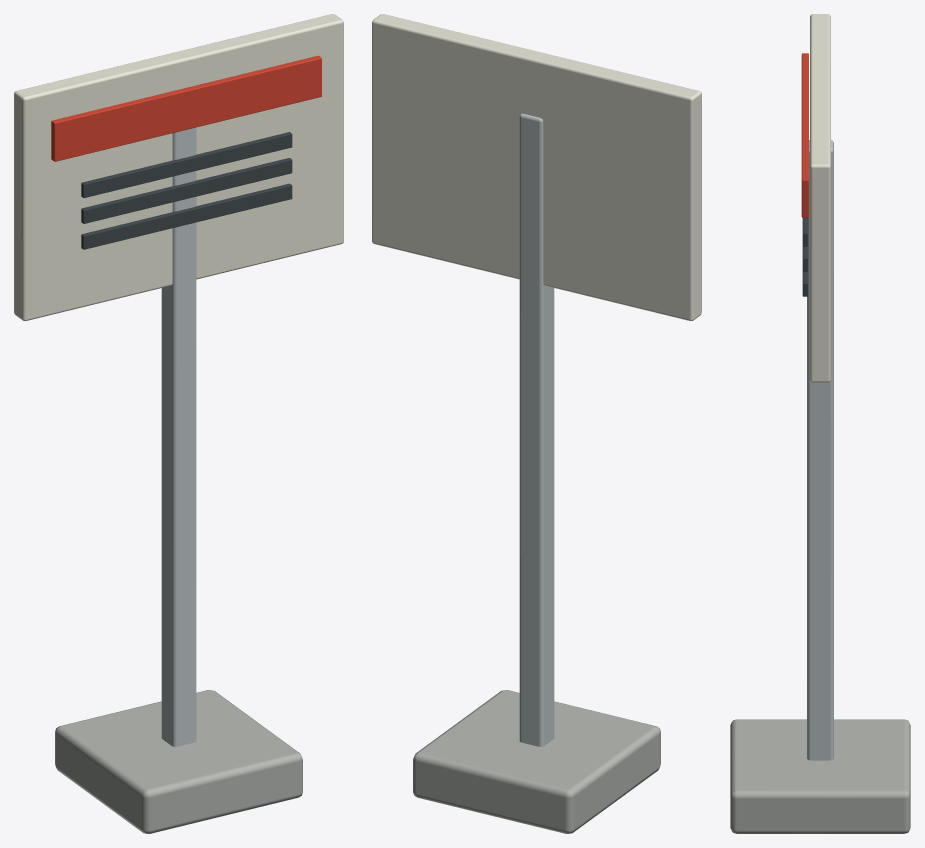
The model's file is broadcast-tower-and-relay-station-broadcast-tower-and--c65900d1__30284.glb.
3 renders of one model, left to right at view 1: azimuth 30°, elevation 25°; view 2: azimuth 150°, elevation 25°; view 3: azimuth 270°, elevation 25°, orthographic. The views are drawn at different scales.
Parts seen in each view (by area): view 1: broadcast-tower-and-relay-station-warning-sign; view 2: broadcast-tower-and-relay-station-warning-sign; view 3: broadcast-tower-and-relay-station-warning-sign.
Part boxes in pixels (x1,y1,x2,y2): broadcast-tower-and-relay-station-warning-sign: (14, 14, 343, 833); broadcast-tower-and-relay-station-warning-sign: (372, 14, 701, 833); broadcast-tower-and-relay-station-warning-sign: (730, 14, 910, 833).
Bounding box in the file's own units: 0.6 × 1.3 × 0.3.
